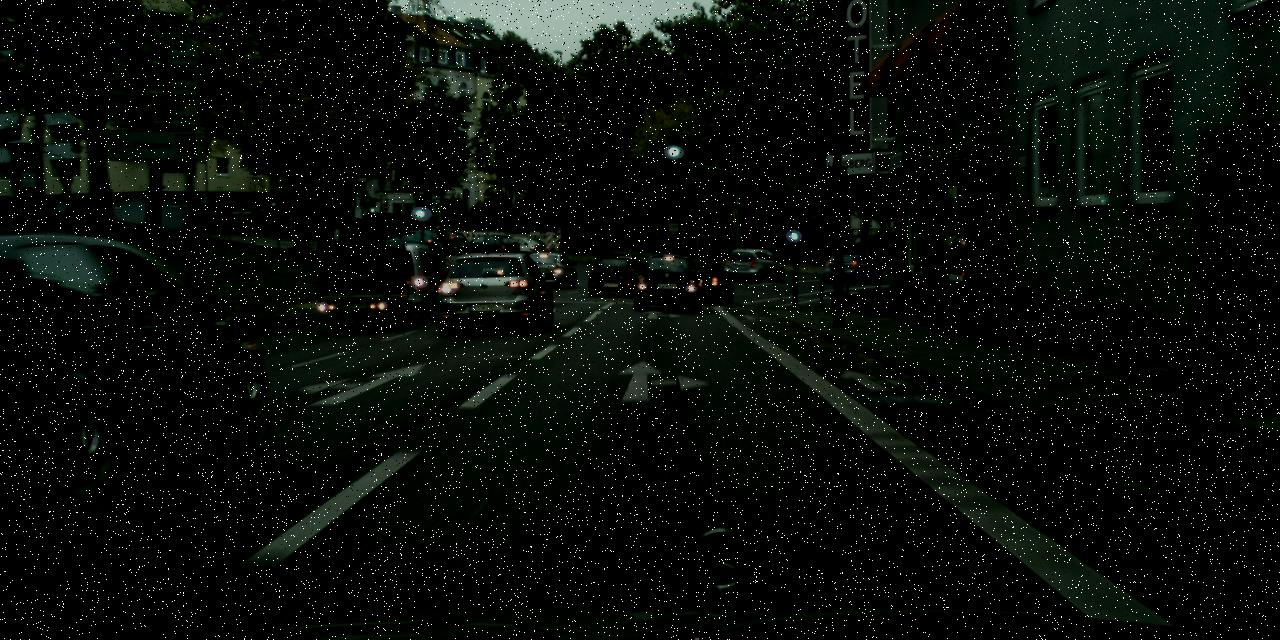ped: (916, 235, 955, 331), (427, 236, 439, 266), (427, 221, 434, 240)
